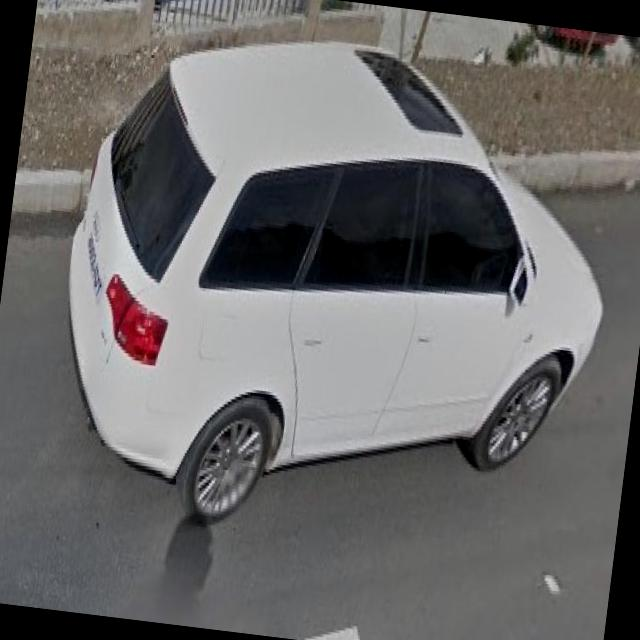car: (39, 18, 628, 560)
